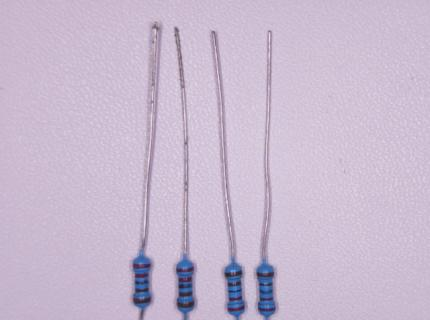Black band: (228, 289, 242, 293), (259, 289, 273, 293), (179, 284, 192, 288), (135, 281, 149, 284)
Brown band: (134, 297, 151, 304), (225, 271, 243, 277), (177, 302, 195, 308), (228, 280, 241, 287), (257, 272, 275, 277), (179, 291, 193, 297), (136, 288, 148, 293), (260, 283, 273, 286)
Red band: (227, 306, 245, 312), (176, 267, 194, 272), (133, 264, 151, 269), (178, 277, 192, 282), (135, 273, 149, 278), (259, 307, 276, 311), (229, 296, 242, 301), (260, 297, 274, 301)
